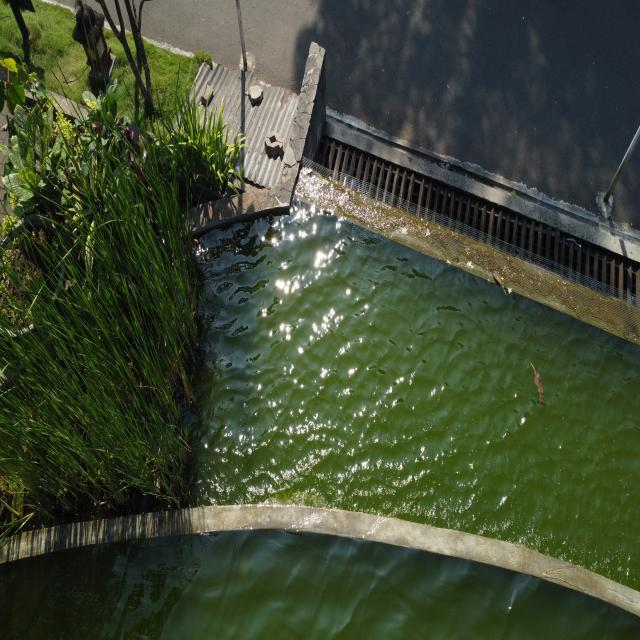Ponds: (2, 174, 640, 614), (1, 519, 640, 640)
